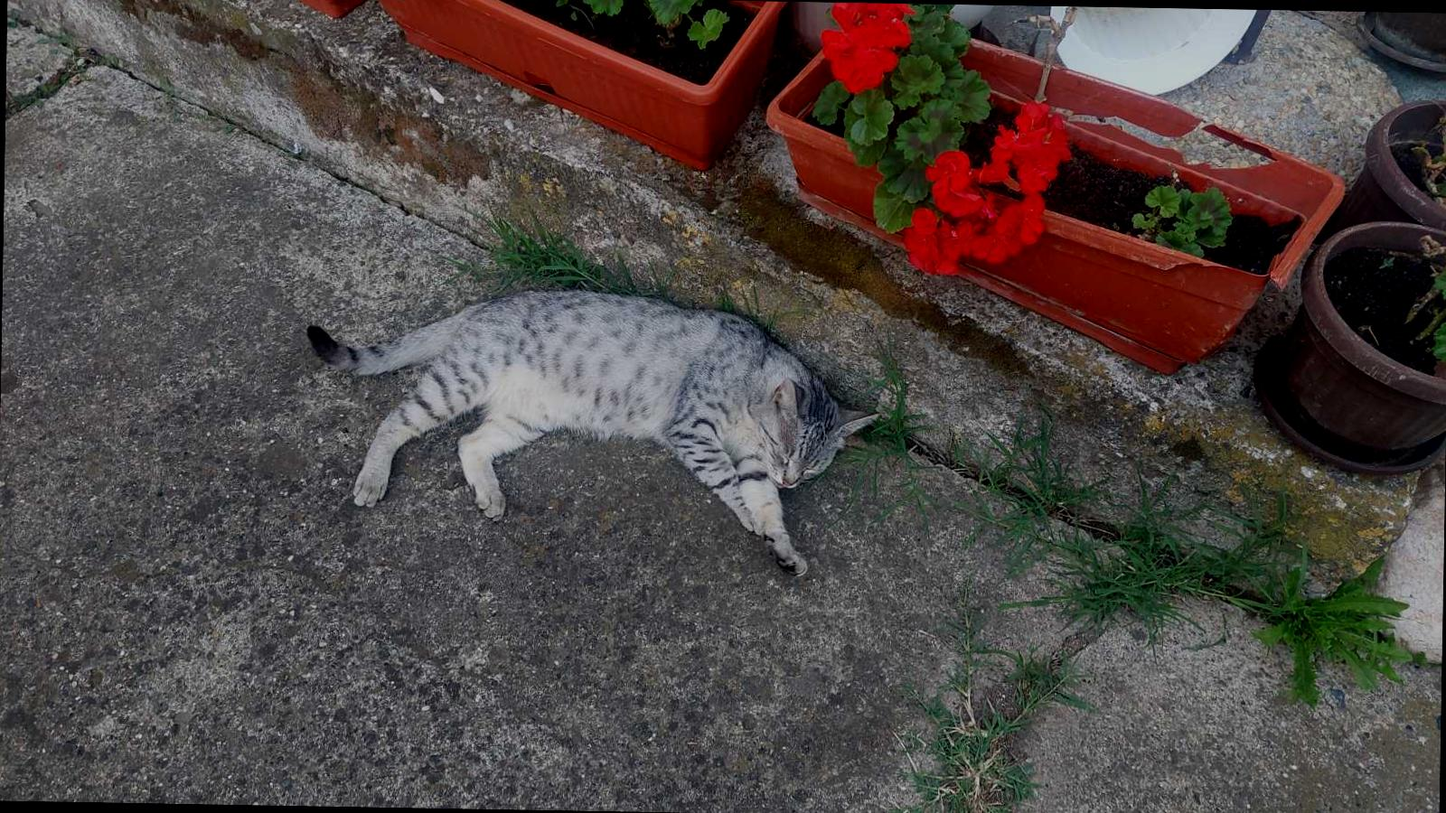macka: (302, 286, 880, 583)
